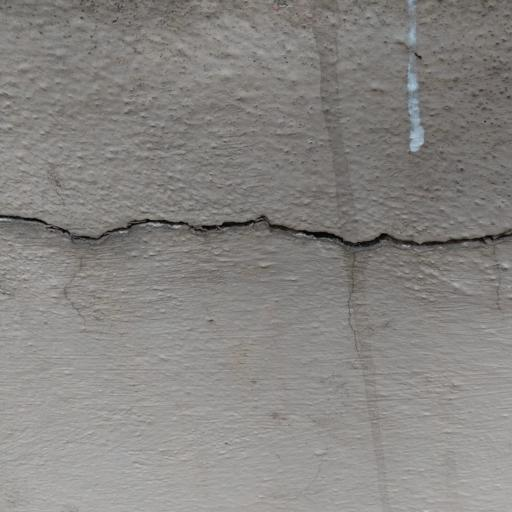major_crack: (0, 181, 512, 295)
